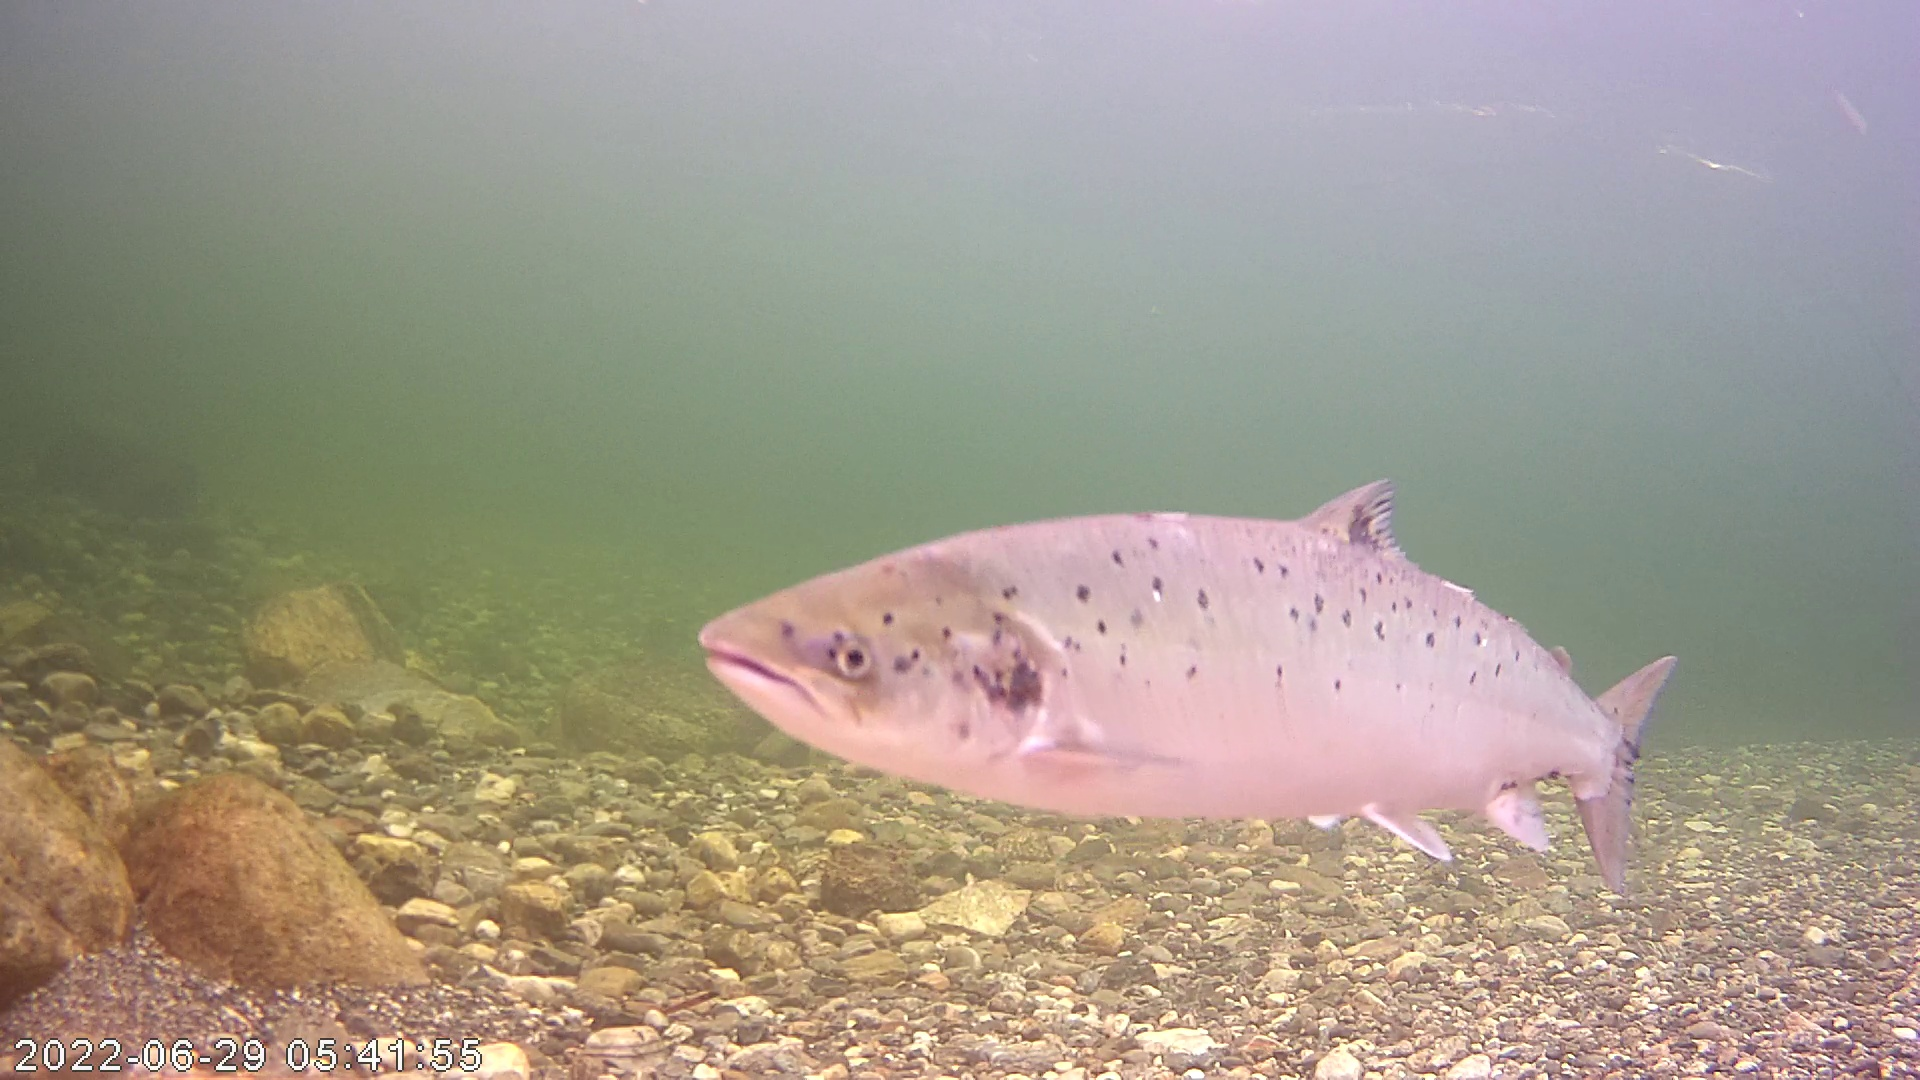salmon: (698, 336, 1683, 848)
